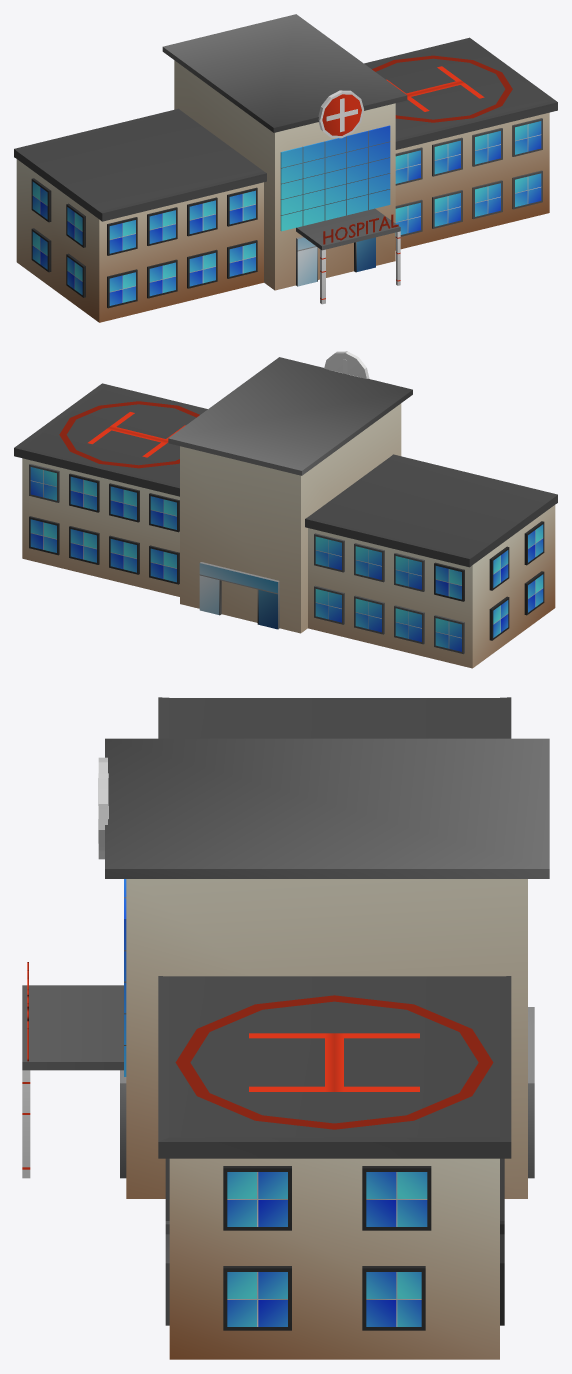
The model's file is SM_Hospiarl_(NO inside).fbx.
3 renders of one model, top to bottom at view 1: azimuth 30°, elevation 25°; view 2: azimuth 150°, elevation 25°; view 3: azimuth 270°, elevation 25°, orthographic. The views are drawn at different scales.
Visible parts, largest first — view 1: Hospiarl_Mash, Hospital_Window_LOD0; view 2: Hospiarl_Mash, Hospital_Window_LOD0; view 3: Hospiarl_Mash, Hospital_Window_LOD0.
Part boxes in pixels (x1,y1,x2,y2): Hospiarl_Mash: (14, 14, 557, 322); Hospital_Window_LOD0: (31, 118, 542, 308); Hospiarl_Mash: (14, 351, 557, 668); Hospital_Window_LOD0: (29, 464, 544, 654); Hospiarl_Mash: (22, 697, 549, 1359); Hospital_Window_LOD0: (165, 1158, 504, 1330).
Size of what is drawn, in the model's own units: 45.79 by 18.03 by 22.8.
